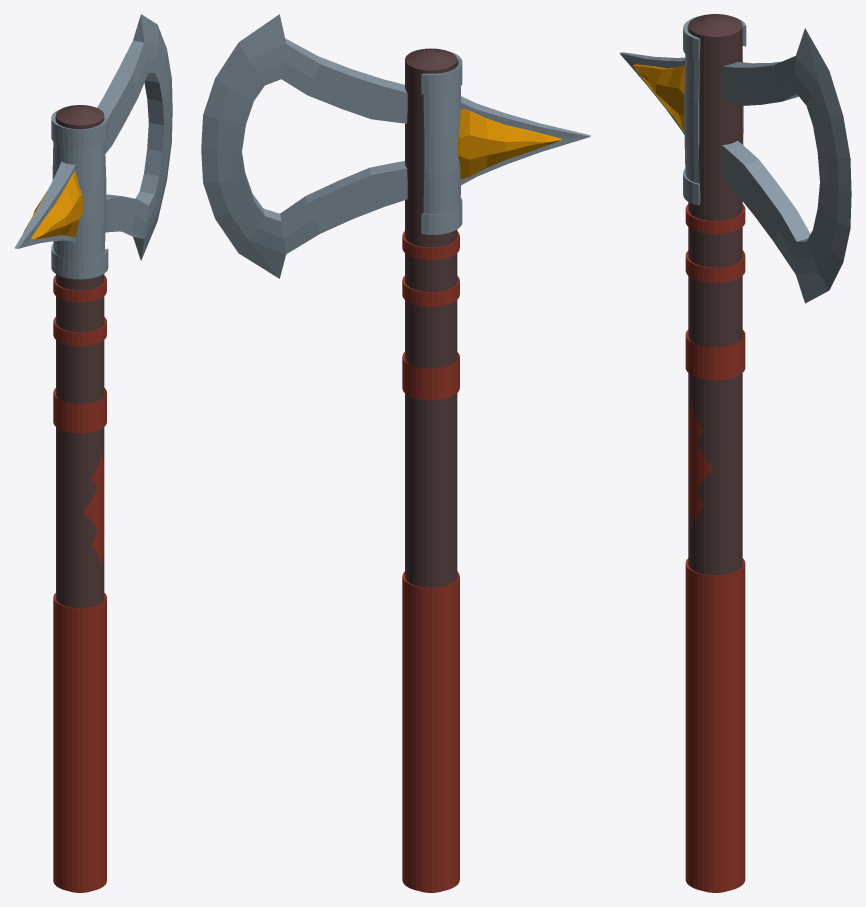
Rendered from Tomahawk.fbx.
3 renders of one model, left to right at view 1: azimuth 30°, elevation 25°; view 2: azimuth 150°, elevation 25°; view 3: azimuth 270°, elevation 25°, orthographic. The views are drawn at different scales.
Parts seen in each view (by area): view 1: Cylinder, Cube, Cylinder.001, Cube.072; view 2: Cylinder, Cube, Cylinder.001, Cube.072; view 3: Cylinder, Cube, Cylinder.001, Cube.072.
Part boxes in pixels (x1,y1,x2,y2): Cylinder: (53,105,106,892); Cube: (14,14,172,260); Cylinder.001: (51,109,108,279); Cube.072: (23,171,83,239); Cylinder: (402,48,459,892); Cube: (201,14,590,278); Cylinder.001: (421,51,462,234); Cube.072: (458,108,561,179); Cylinder: (685,14,745,892); Cube: (619,28,851,303); Cylinder.001: (683,16,746,205); Cube.072: (632,64,684,132).
Size of the model in its own units: 76.29 by 230 by 52.71.
